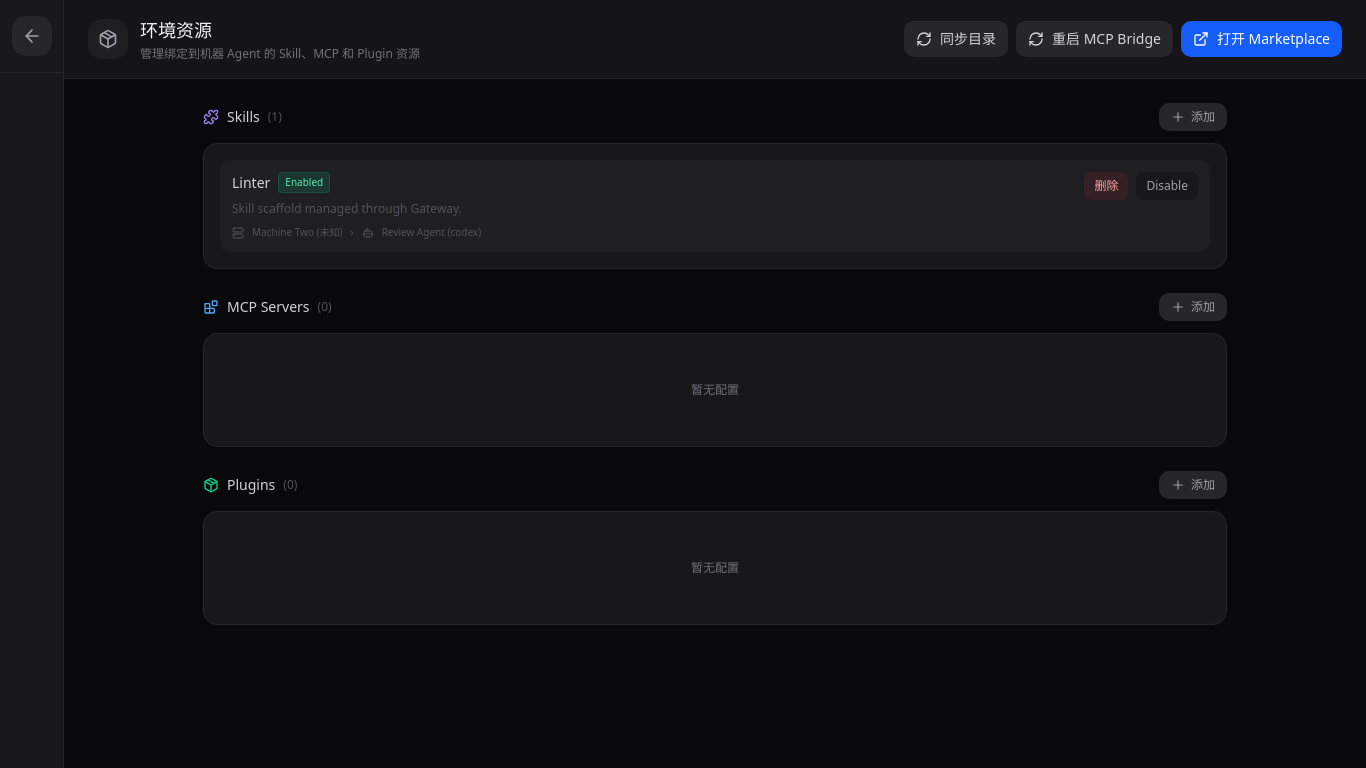
Test: falls back to agentType in labels and refreshes machine data on machine.updated
The width and height of the screenshot is (1366, 768).
Expected: the text "Machine Two (未知)" is shown, [252,225,342,240]
Expected: the text "Review Agent (codex)" is shown, [382,225,481,240]
Click the button with aria-label "Add skill" at (1193, 117), box [1159,103,1227,131]
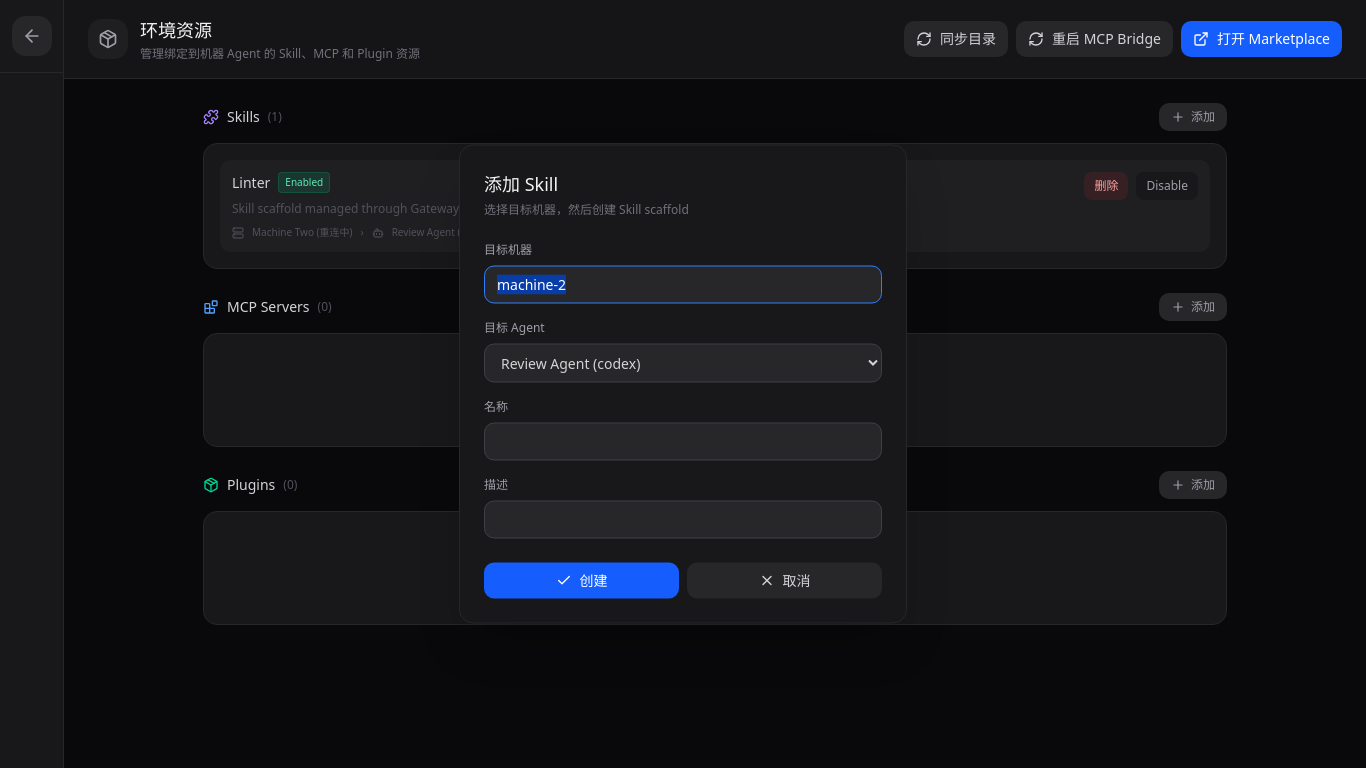
Now the text "Machine Two (重连中)" is shown, box [252,225,352,240]
